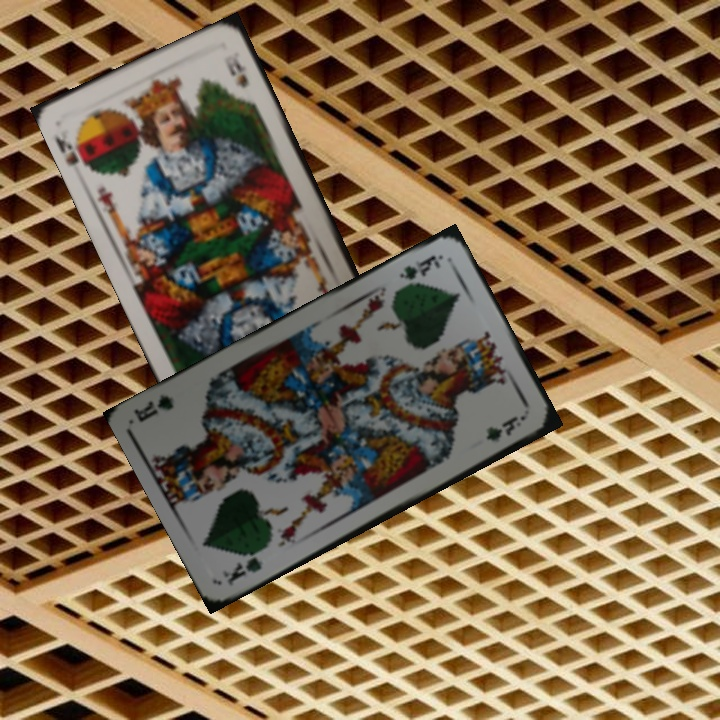GK: (218, 553, 265, 589), (395, 251, 444, 283)
SK: (50, 130, 94, 172)
